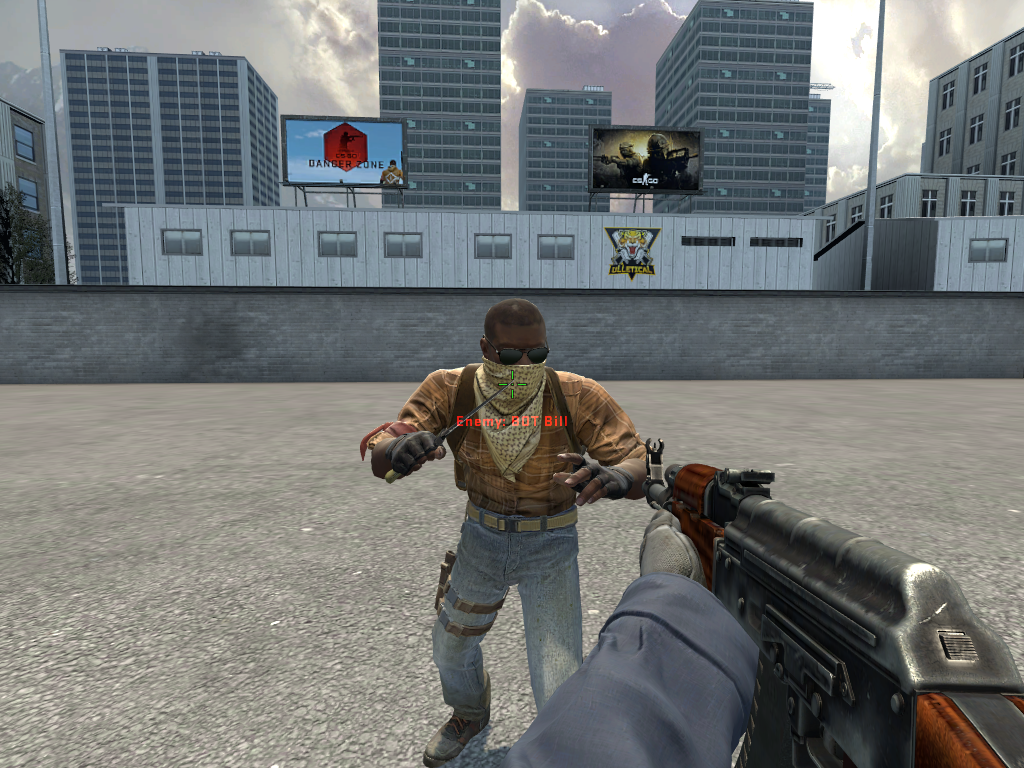tr head: (479, 298, 553, 402)
